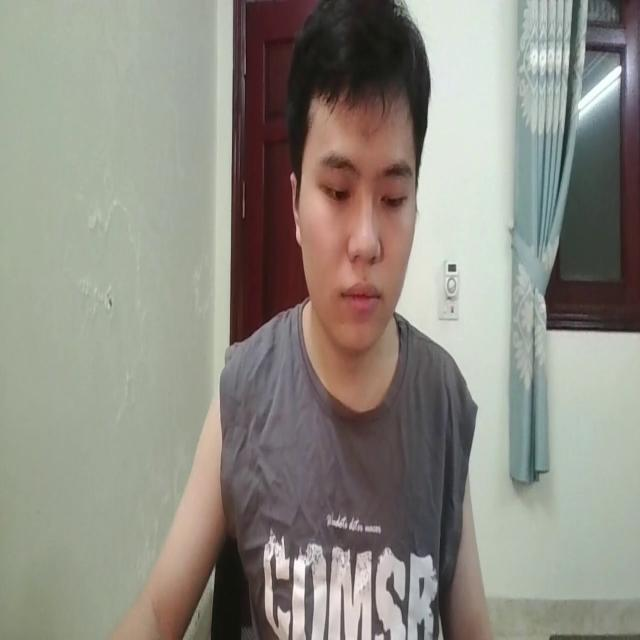student: (151, 2, 493, 640)
